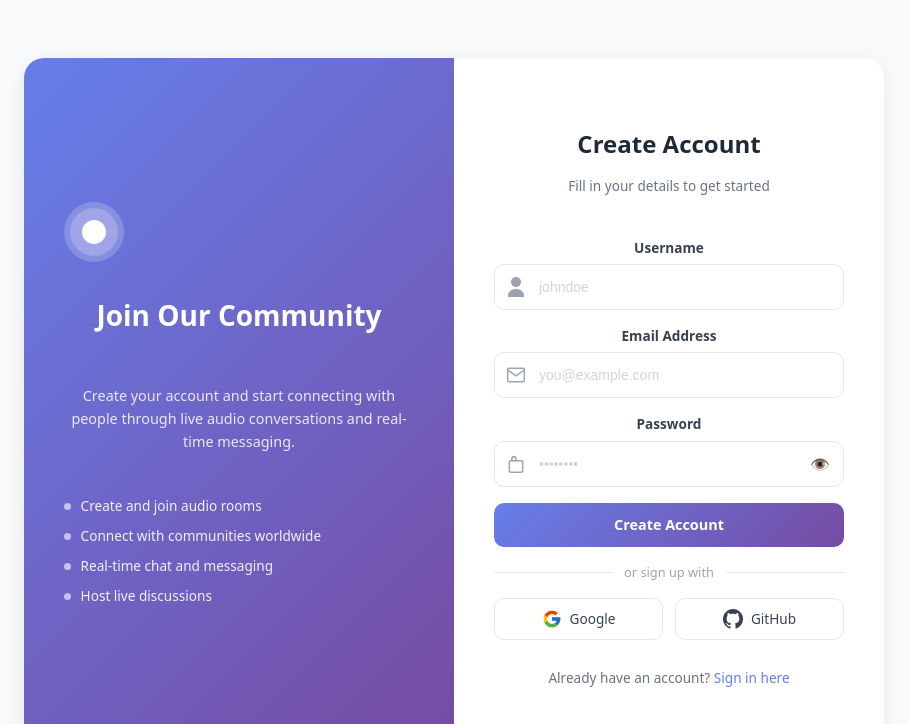
Test: <signup /> › email validity
This screenshot has width=909, height=724.
Type "hello" into the field labelled "Username" at (669, 287), box [494,264,844,310]
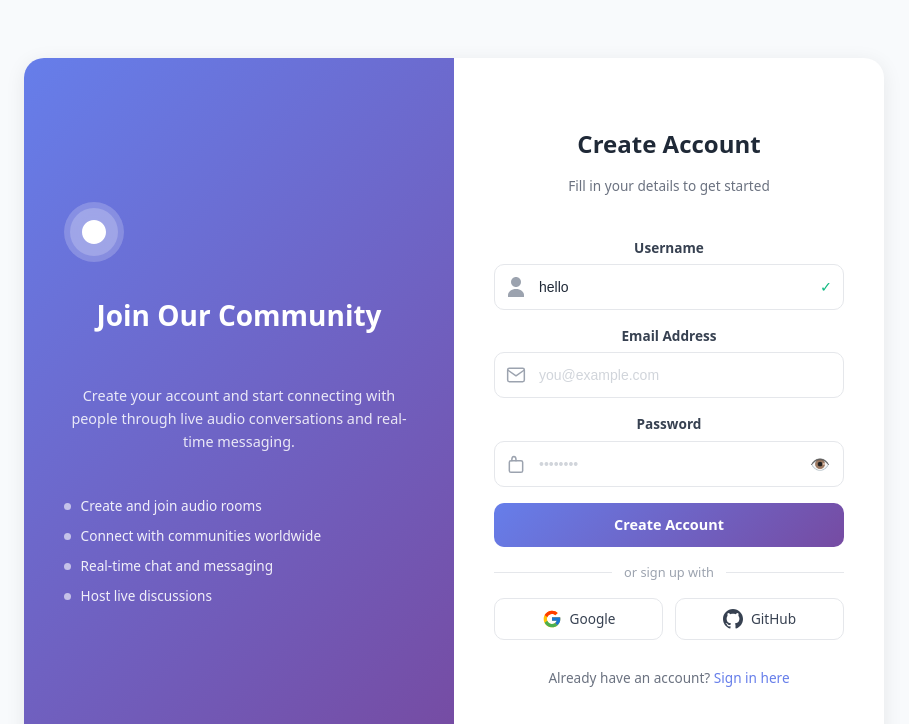
Type "nkelechi21ailcom" into the field labelled "Email Address" at (669, 375), box [494,352,844,398]
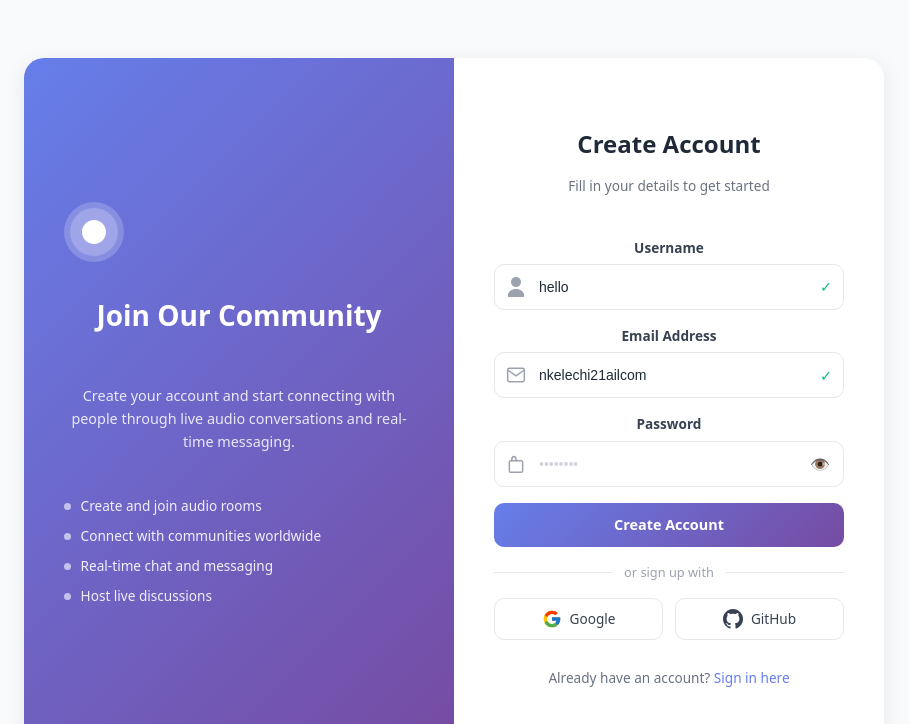
Type "Poiuytre101" into the password field labelled "Password" at (669, 464), box [494,441,844,487]
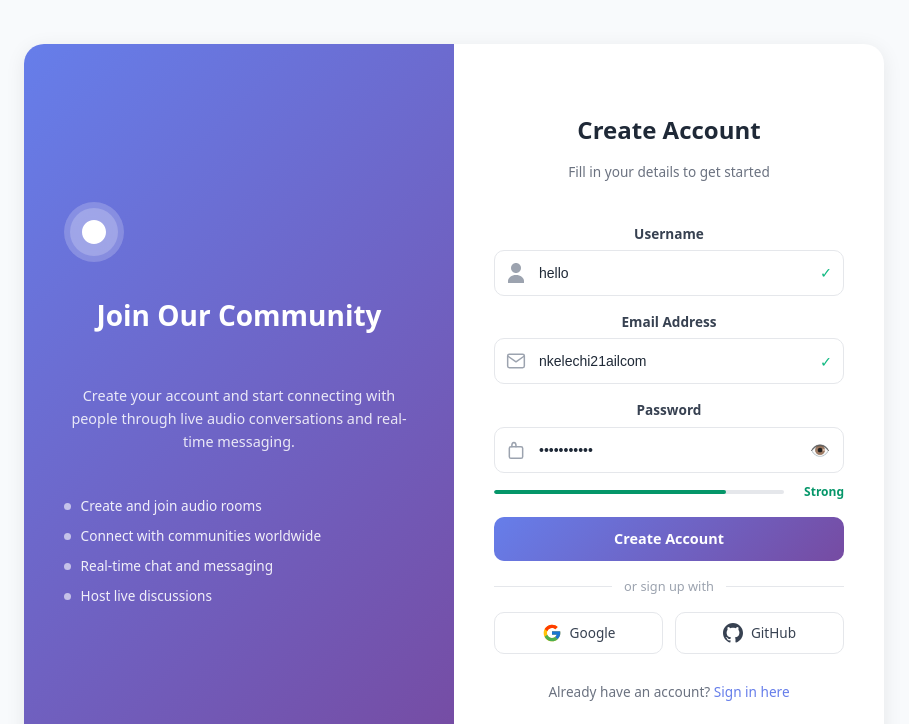
Click the button with test id "createaccount" at (669, 539), box [494,517,844,561]
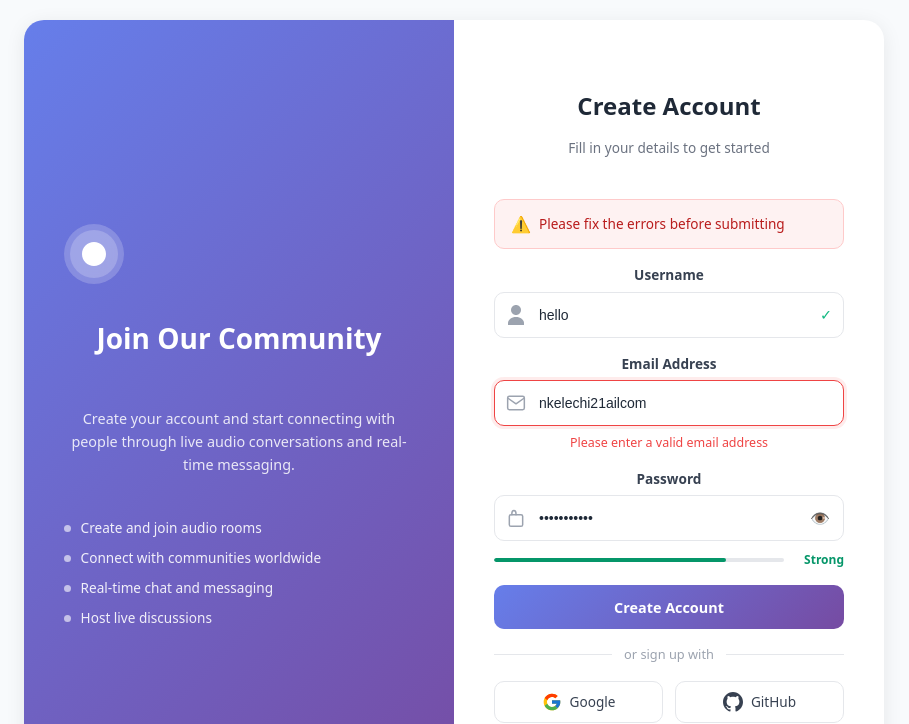
Expected: the text with test id "email" reads "Please enter a valid email address", [570,434,768,451]
